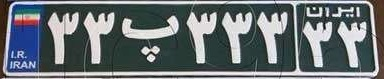3: (183, 9, 221, 68), (45, 9, 83, 67), (254, 9, 292, 66), (219, 9, 256, 67), (81, 9, 117, 67), (298, 19, 336, 71), (335, 19, 369, 70)
پ: (119, 12, 183, 65)
